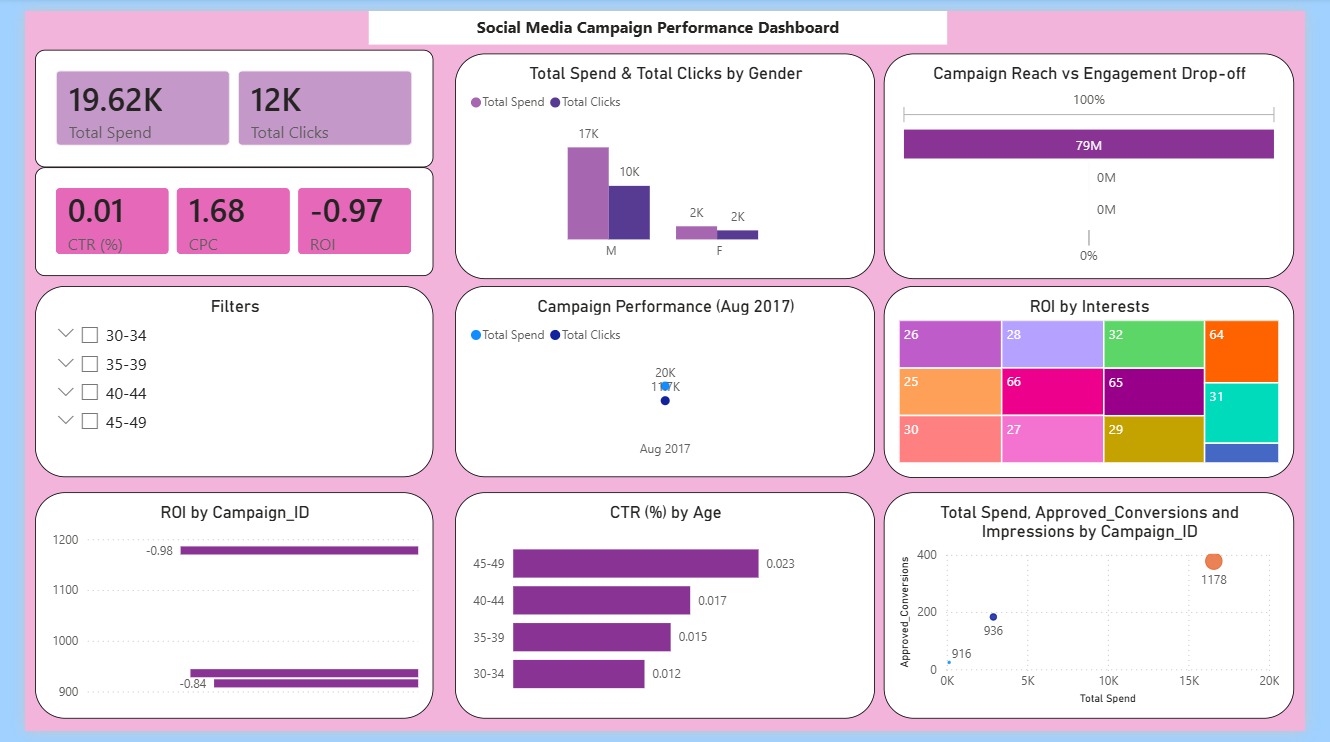

The page's visual inventory and layout, read from the dashboard file:
{"tool":"powerbi","page":{"name":"Page 1","canvas":[1280,720],"ordinal":0},"visuals":[{"type":"cardVisual","fields":{"Data":["data.CTR (%)","data.CPC","data.ROI"]},"box":[10,156.2,398.8,108.8],"z":0},{"type":"lineChart","title":"Campaign Performance (Aug 2017)","fields":{"Y":["data.Total Spend"],"Y2":["data.Total Clicks"],"Category":["data.Month-Year"]},"box":[430,275,420,191.2],"z":1000},{"type":"clusteredColumnChart","title":"Total Spend & Total Clicks by Gender","fields":{"Category":["data.gender"],"Y":["data.Total Spend","data.Total Clicks"]},"box":[430,42.9,420,225.7],"z":2000},{"type":"barChart","title":"CTR (%) by Age","fields":{"Y":["data.CTR (%)"],"Category":["data.age"]},"box":[430,481.7,420,226.7],"z":3000},{"type":"barChart","title":"ROI by Campaign_ID","fields":{"Y":["data.ROI"],"Category":["data.campaign_id"]},"box":[10,481.7,398.3,226.7],"z":4000},{"type":"scatterChart","title":"Total Spend, Approved_Conversions and Impressions by Campaign_ID","fields":{"X":["data.Total Spend"],"Size":["Sum(data.impressions)"],"Series":["data.campaign_id"],"Y":["Sum(data.approved_conversion)"]},"box":[858.3,481.7,410,226.7],"z":5000},{"type":"funnel","title":"Campaign Reach vs Engagement Drop-off","fields":{"Y":["Sum(data.impressions)","Sum(data.clicks)","Sum(data.approved_conversion)"]},"box":[858.6,42.9,410,225.7],"z":6000},{"type":"treemap","title":"ROI by Interests","fields":{"Group":["data.interest1","data.interest2","data.interest3"],"Values":["data.ROI"]},"box":[858.3,275,410,191.7],"z":7000},{"type":"slicer","title":"Filters","fields":{"Values":["data.age","data.gender","data.campaign_id","data.Month-Year"]},"box":[10,275,398.8,191.2],"z":8000},{"type":"cardVisual","fields":{"Data":["data.Total Spend","data.Total Clicks"]},"box":[10,38.8,398.8,117.5],"z":9000},{"type":"textbox","box":[343.3,0,578.3,33.3],"z":10000}]}

Visuals, with their boxes in screenshot pixels (x1, y1, x2, y2), scaled from the page's 1280x720 canvas onto the 1330x742 screenshot:
cardVisual - data.CTR (%) x data.CPC: 10 161 425 273
"Campaign Performance (Aug 2017)" lineChart: 447 283 883 480
"Total Spend & Total Clicks by Gender" clusteredColumnChart: 447 44 883 277
"CTR (%) by Age" barChart: 447 496 883 730
"ROI by Campaign_ID" barChart: 10 496 424 730
"Total Spend, Approved_Conversions and Impressions by Campaign_ID" scatterChart: 892 496 1318 730
"Campaign Reach vs Engagement Drop-off" funnel: 892 44 1318 277
"ROI by Interests" treemap: 892 283 1318 481
"Filters" slicer: 10 283 425 480
cardVisual - data.Total Spend x data.Total Clicks: 10 40 425 161
textbox: 357 0 958 34
